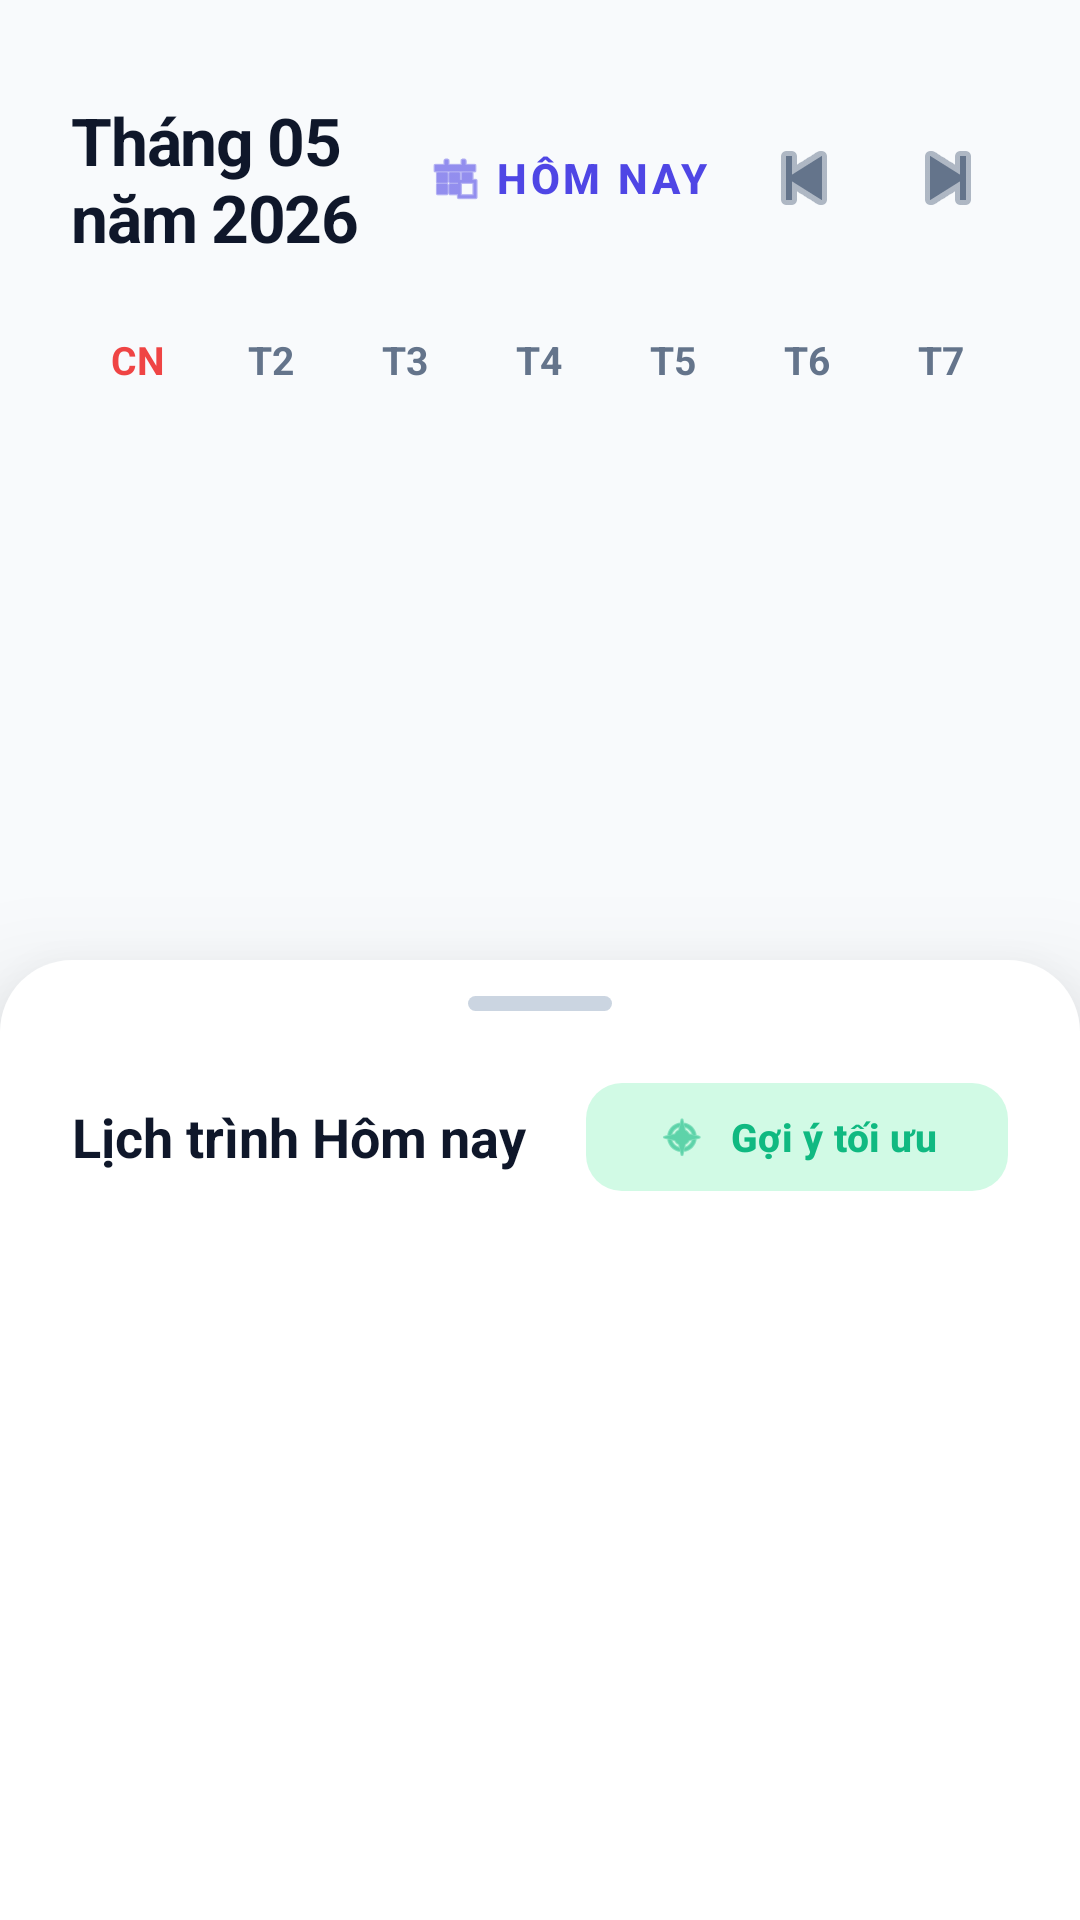

Where to tap for icons on this 1080px x 1920px app screen, as [x,y]:
Tháng sau: [948,178]
Tháng trước: [804,178]
